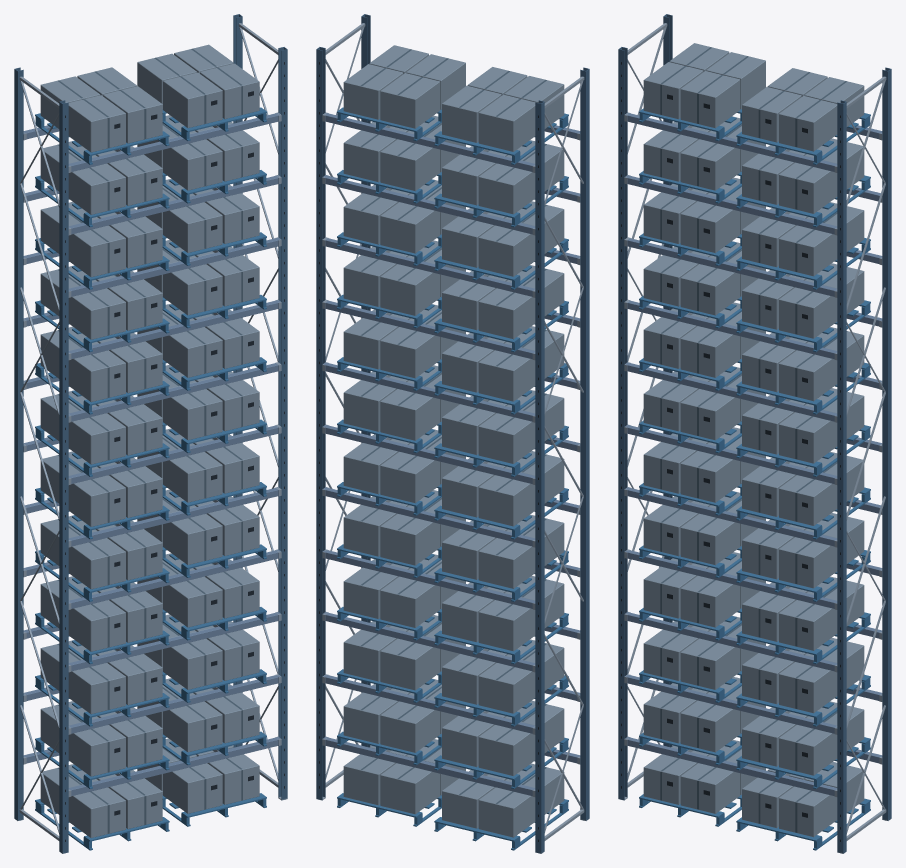
Rendered from SM_GHS_V2Rack_B_W28743.fbx.
The picture shows the model from 3 angles, left to right: view 1: azimuth 30°, elevation 25°; view 2: azimuth 150°, elevation 25°; view 3: azimuth 330°, elevation 25°; orthographic projection.
Parts seen in each view (by area): view 1: SM_GHS_V2Rack_B_W28743; view 2: SM_GHS_V2Rack_B_W28743; view 3: SM_GHS_V2Rack_B_W28743.
Part boxes in pixels (box(x1,y1,x2,y2)): SM_GHS_V2Rack_B_W28743: box(14, 14, 287, 853); SM_GHS_V2Rack_B_W28743: box(316, 14, 589, 853); SM_GHS_V2Rack_B_W28743: box(618, 14, 891, 853).
Bounding box in the file's own units: 287 × 122 × 915.
